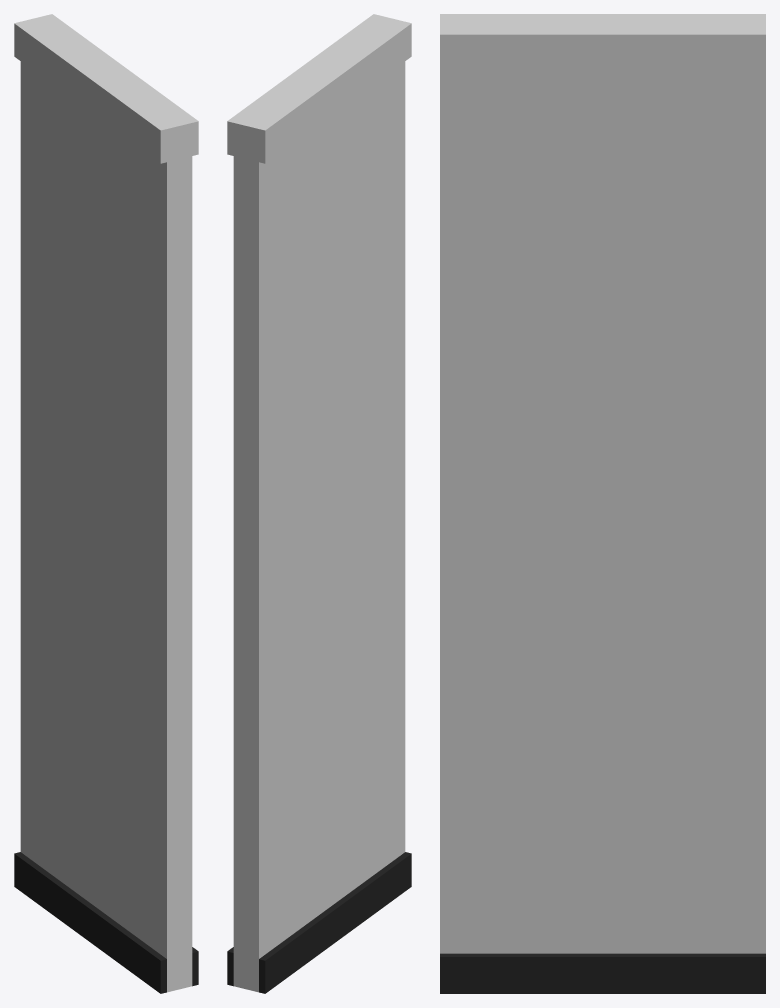
The model's file is wall_01_S.glb.
The picture shows the model from 3 angles, left to right: view 1: azimuth 30°, elevation 25°; view 2: azimuth 150°, elevation 25°; view 3: azimuth 270°, elevation 25°; orthographic projection. The views are drawn at different scales.
Visible parts, largest first — view 1: Untitled; view 2: Untitled; view 3: Untitled.
Boxes of the visible parts, <box> form: Untitled: <box>14,14,198,993</box>; Untitled: <box>227,14,411,993</box>; Untitled: <box>440,14,765,993</box>.
Bounding box in the file's own units: 0.18 × 3.9 × 1.2.
1 material, 1 textured.
